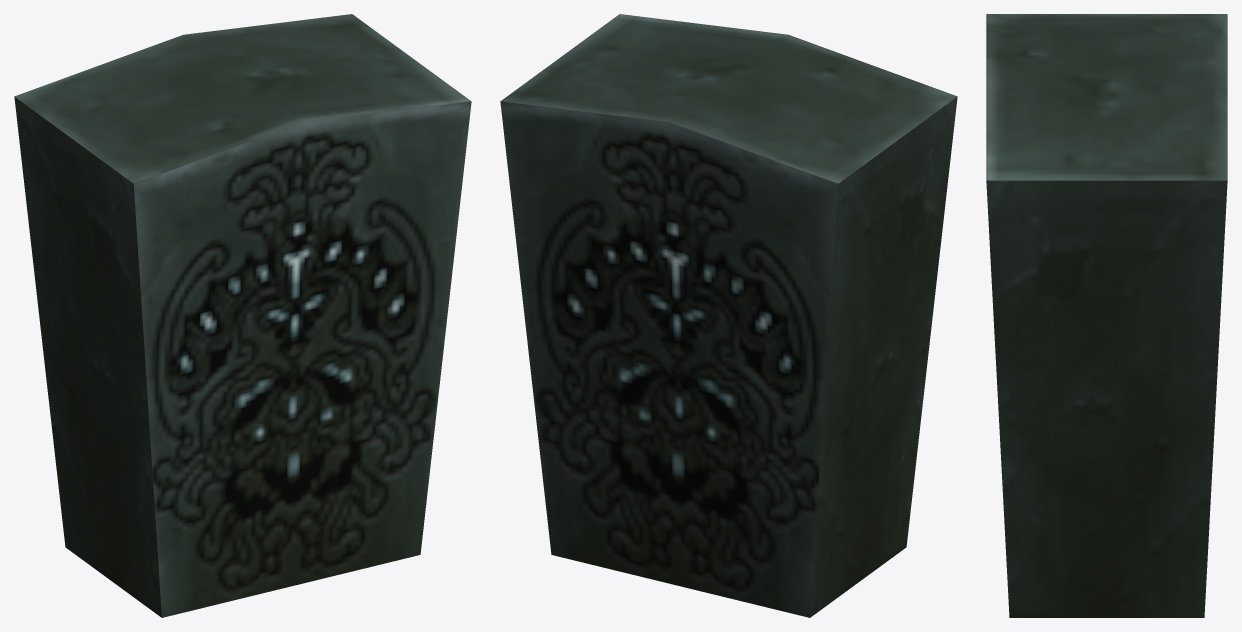
Rendered from mubei.FBX.
3 renders of one model, left to right at view 1: azimuth 30°, elevation 25°; view 2: azimuth 150°, elevation 25°; view 3: azimuth 270°, elevation 25°, orthographic.
Parts seen in each view (by area): view 1: mubei; view 2: mubei; view 3: mubei.
Boxes of the visible parts, x1,y1,x2,y2 form: mubei: [14, 14, 471, 617]; mubei: [500, 14, 957, 617]; mubei: [986, 14, 1227, 617].
Size of the model in its own units: 365 by 223 by 488.
